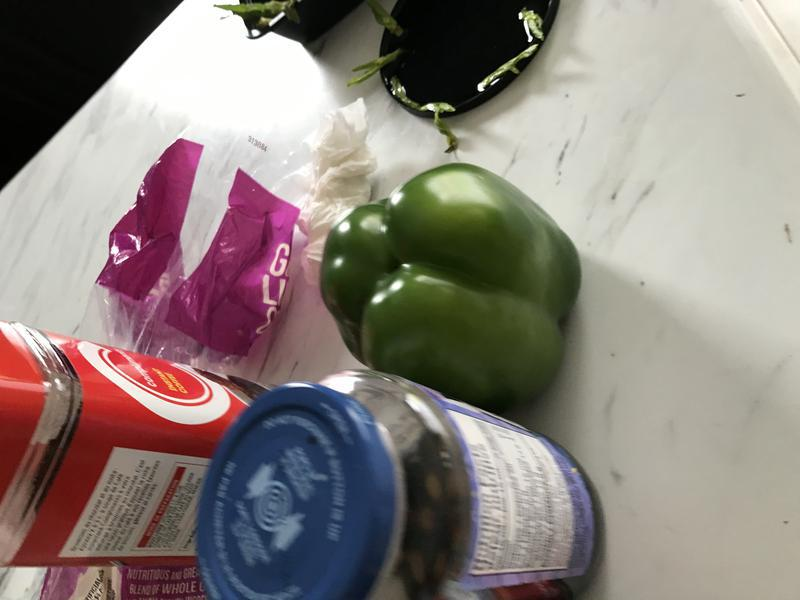green_pepper: (309, 159, 589, 434)
